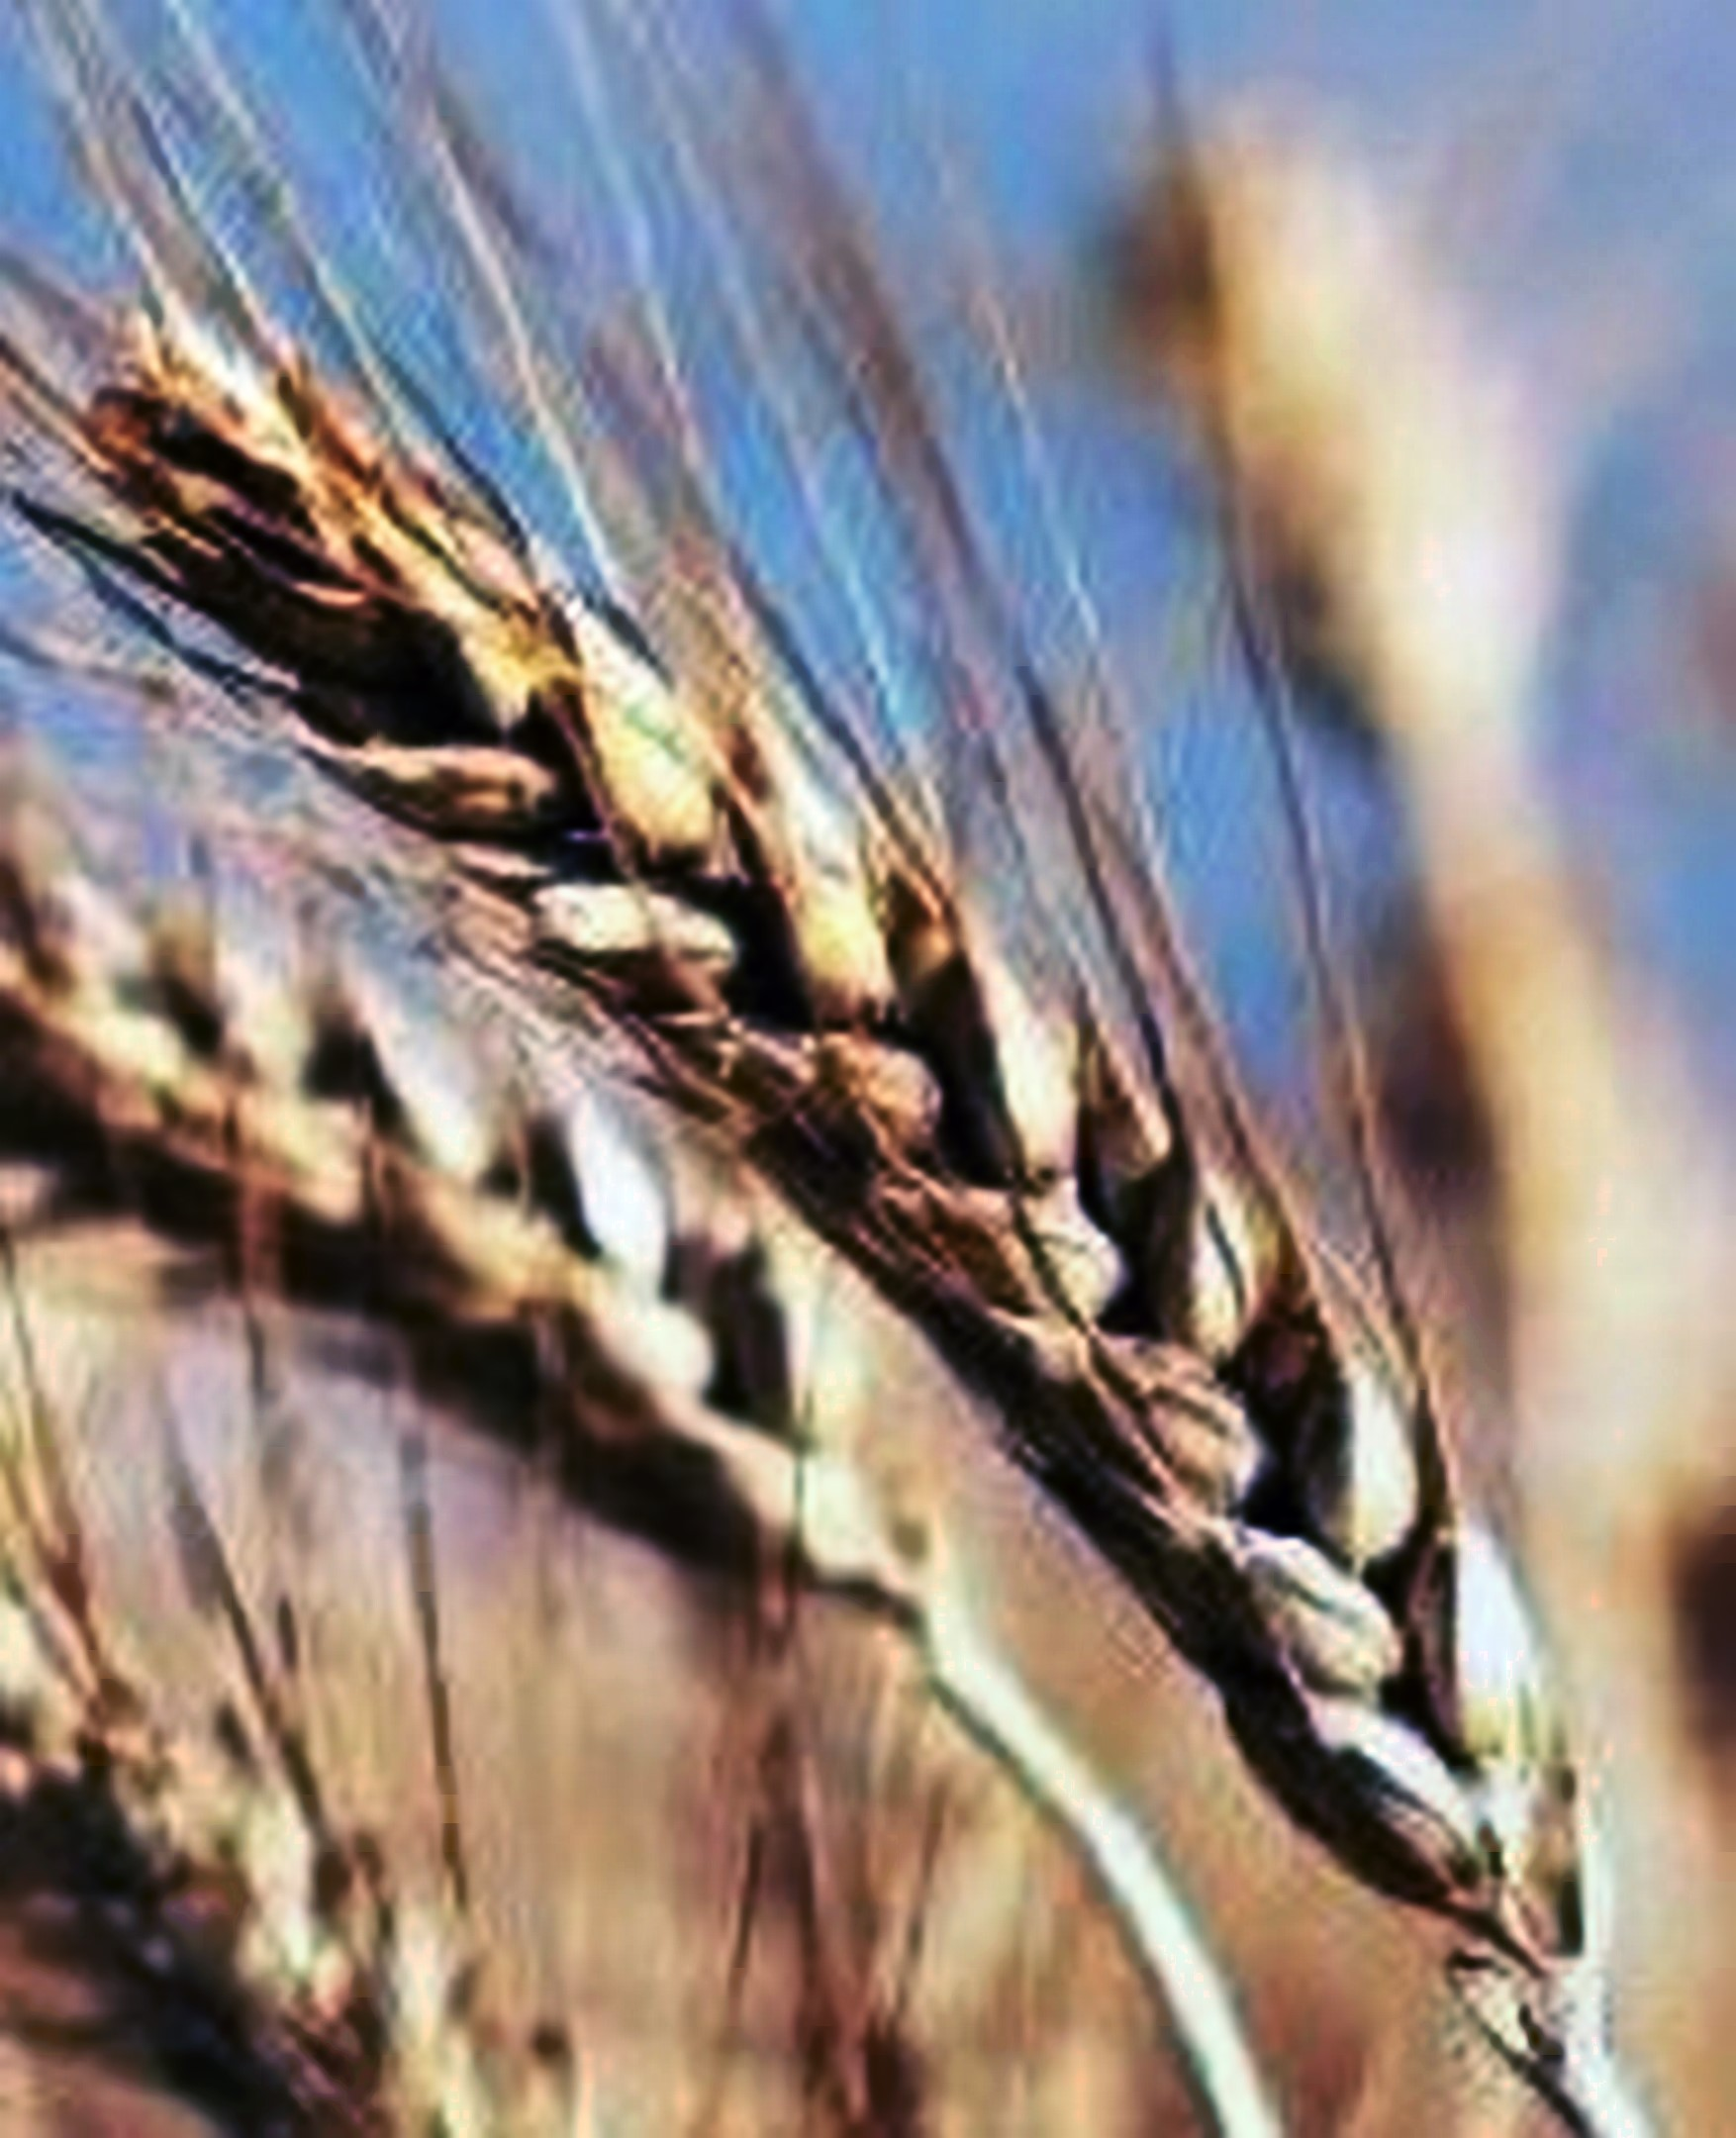Healthy Wheat: (154, 342, 1598, 1927)
